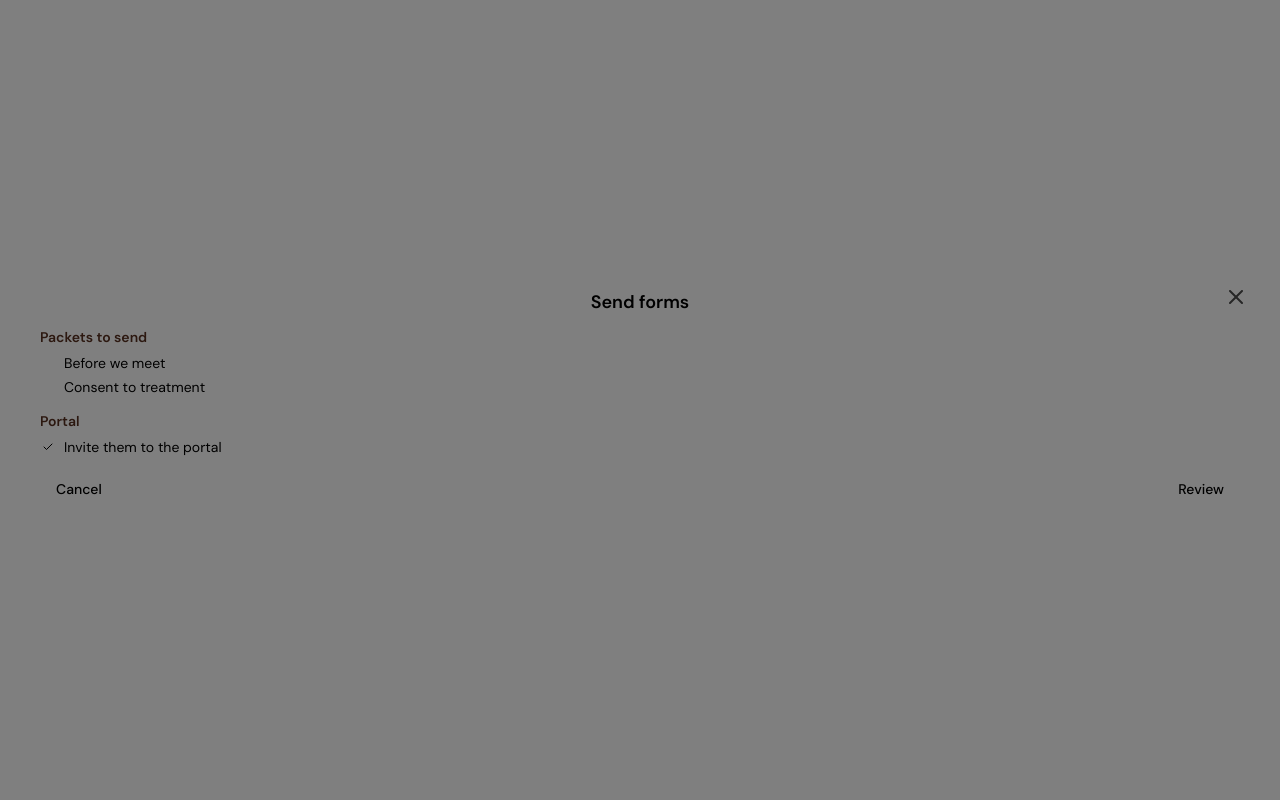
Scenario: SendFormsFlow › can invite without sending any form
The image size is (1280, 800).
Expected: the checkbox named "Invite them to the portal" next to "Invite them to the portal" is shown, [40,439,56,455]
Click the button "Review" at (1201, 489), box [1162,471,1240,507]
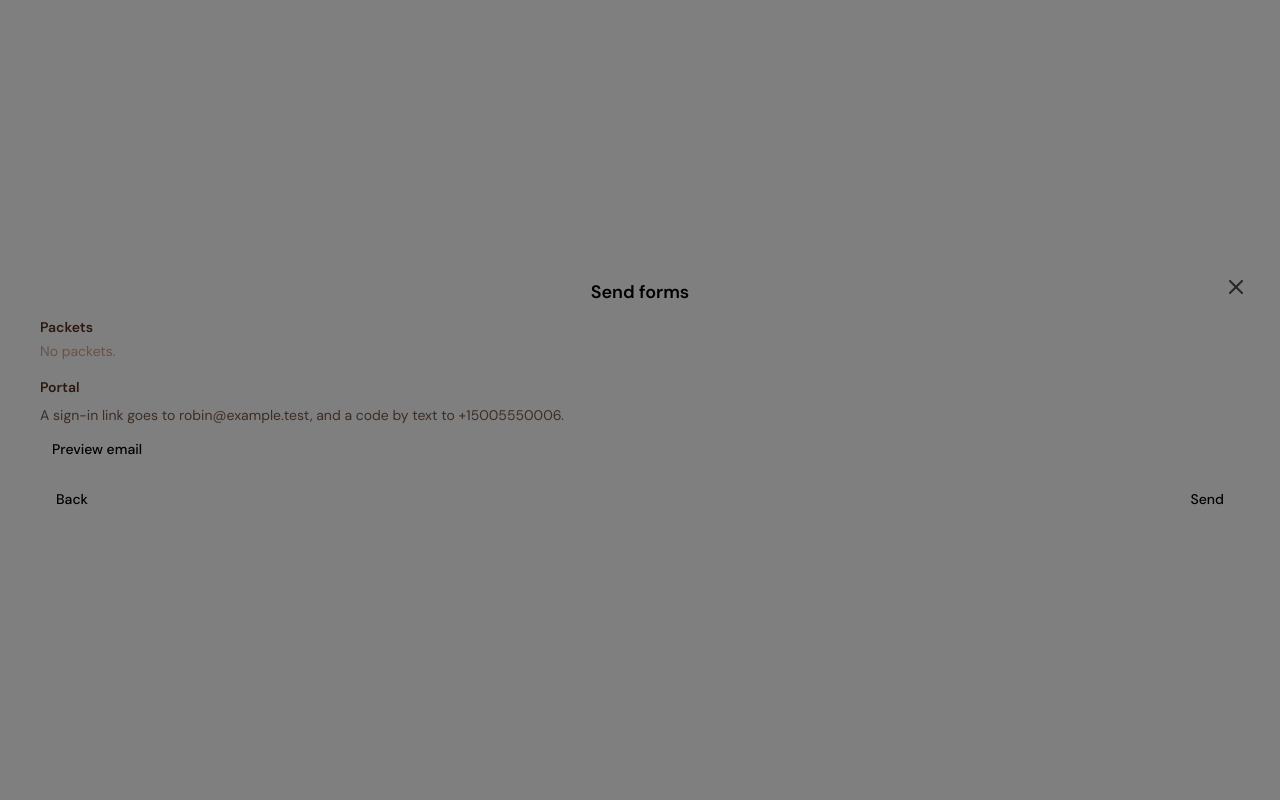
Click the button with test id "send-forms-send" at (1207, 499), box [1174,481,1240,517]
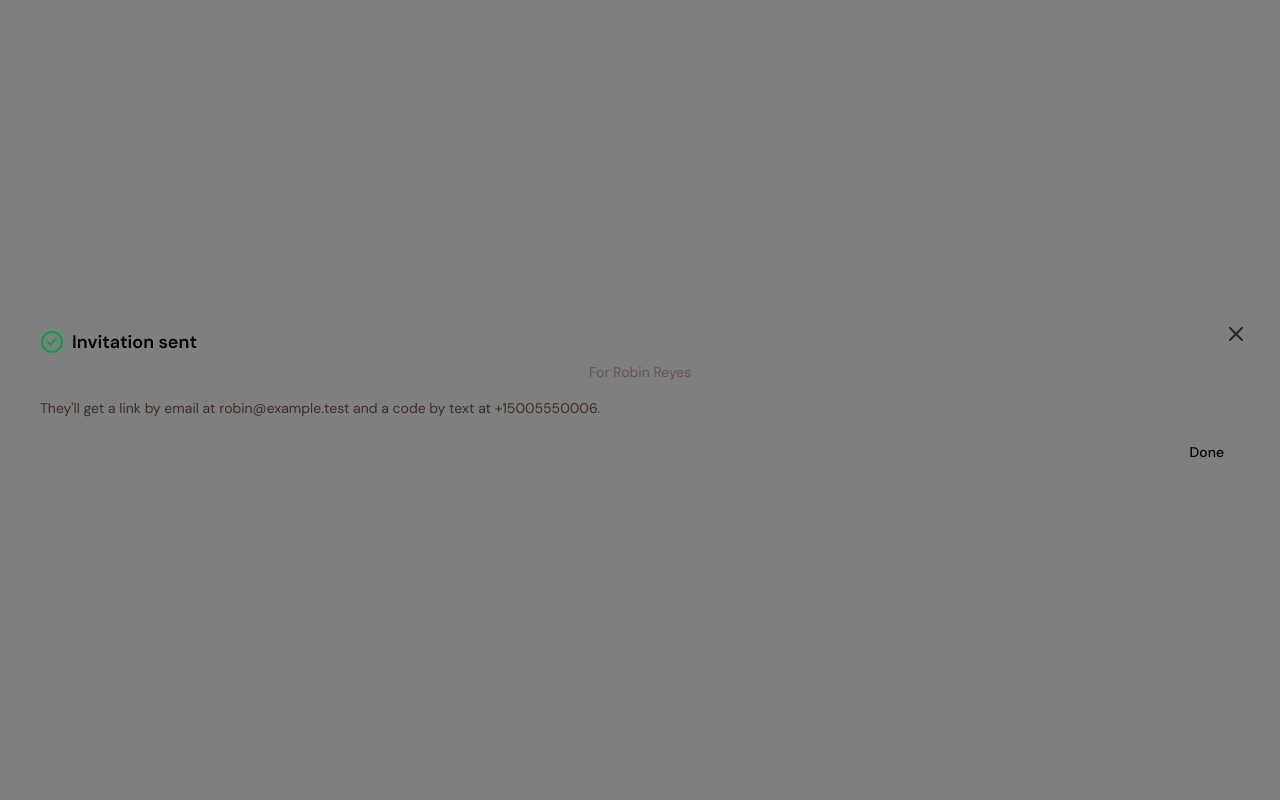
Expected: the heading with test id "send-forms-heading" reads "Invitation sent", [72,330,197,354]
